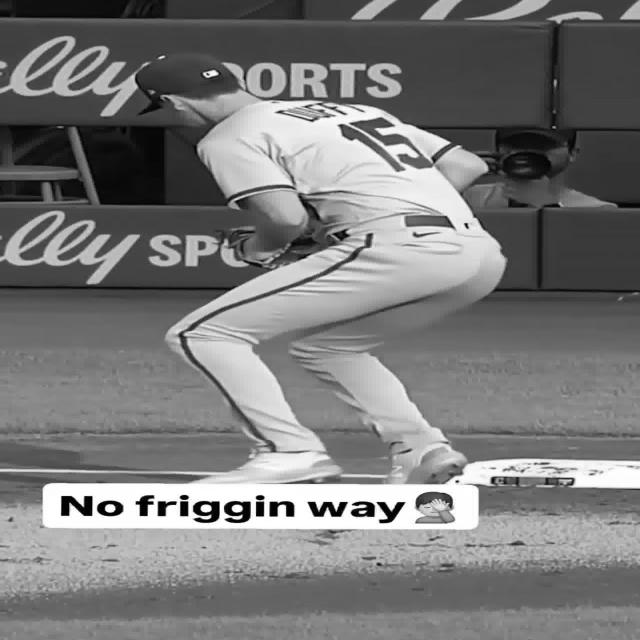base: (449, 459, 640, 489)
baseball_glove: (222, 226, 267, 266), (282, 231, 336, 261)
shoe: (193, 451, 342, 484), (385, 442, 467, 484)
